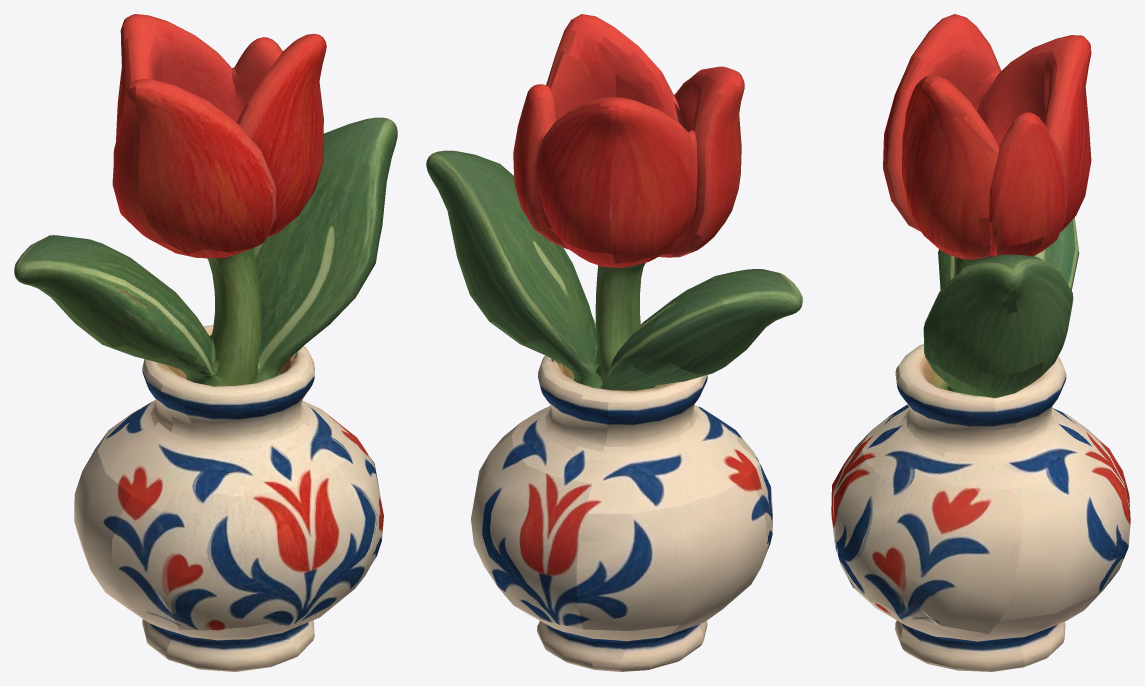
File: lale.glb
The picture shows the model from 3 angles, left to right: view 1: azimuth 30°, elevation 25°; view 2: azimuth 150°, elevation 25°; view 3: azimuth 270°, elevation 25°; orthographic projection. The views are drawn at different scales.
Parts seen in each view (by area): view 1: Mesh0; view 2: Mesh0; view 3: Mesh0.
Part boxes in pixels (<box>): Mesh0: <box>14,14,397,671</box>; Mesh0: <box>426,14,802,671</box>; Mesh0: <box>831,14,1130,671</box>.
Bounding box in the file's own units: 1.25 × 1.9 × 0.8726.
Materials: 1 (1 with a texture image).
